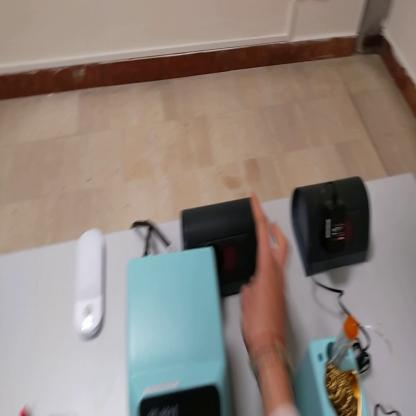hand: (239, 190, 290, 364)
socket: (292, 172, 372, 276), (176, 199, 251, 301)
welder base: (298, 307, 378, 415)
welder station: (124, 237, 234, 415)
